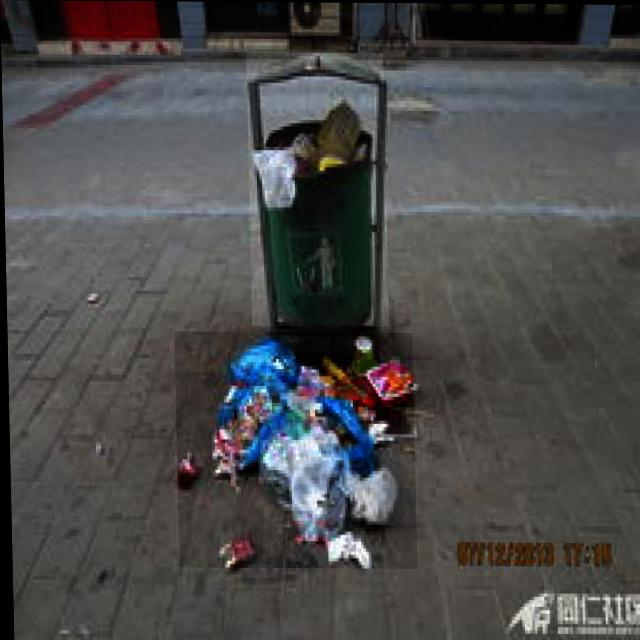garbage: (173, 331, 415, 568)
overflow: (246, 52, 388, 326)
